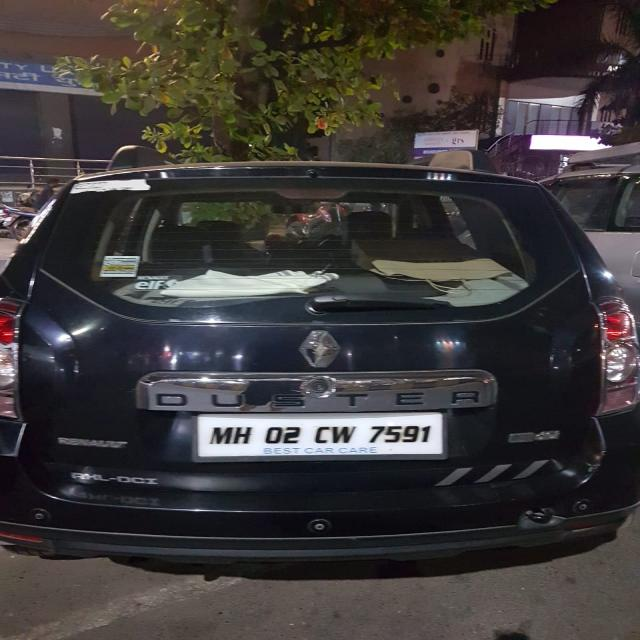Number-Plate: (199, 415, 449, 455)
